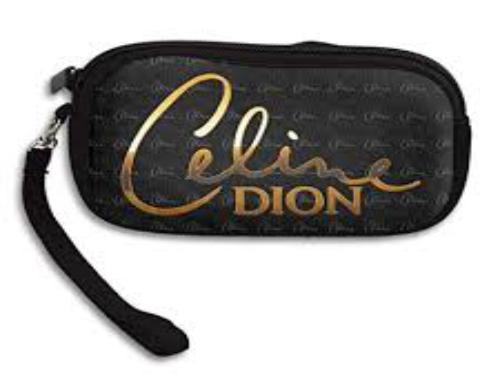CELINE: (117, 69, 420, 228)
